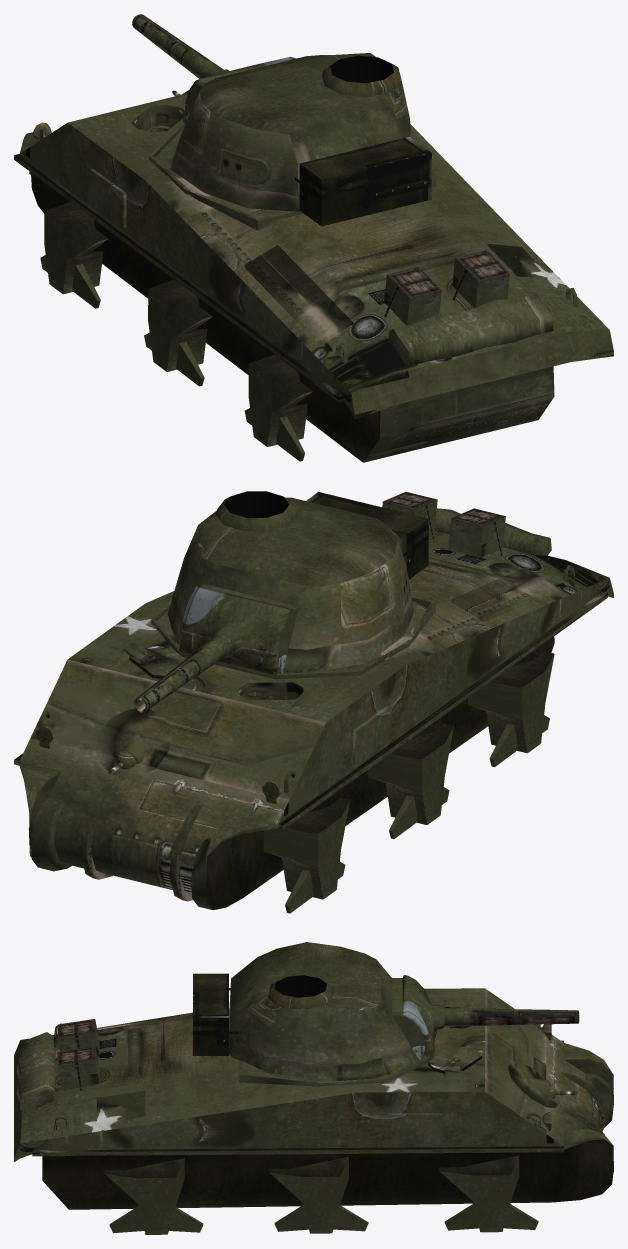
Rendered from sherman.glb.
3 views of the same model, one above another, from view 1: azimuth 30°, elevation 25°; view 2: azimuth 150°, elevation 25°; view 3: azimuth 270°, elevation 25° (orthographic). The views are drawn at different scales.
Visible parts, largest first — view 1: sherman; view 2: sherman; view 3: sherman.
Part boxes in pixels (bbox=[...]): sherman: bbox=[14, 14, 613, 462]; sherman: bbox=[14, 491, 613, 913]; sherman: bbox=[14, 942, 613, 1234].
Size of the model in its own units: 2.49 by 2.3 by 5.76.
2 materials, 2 textured.
